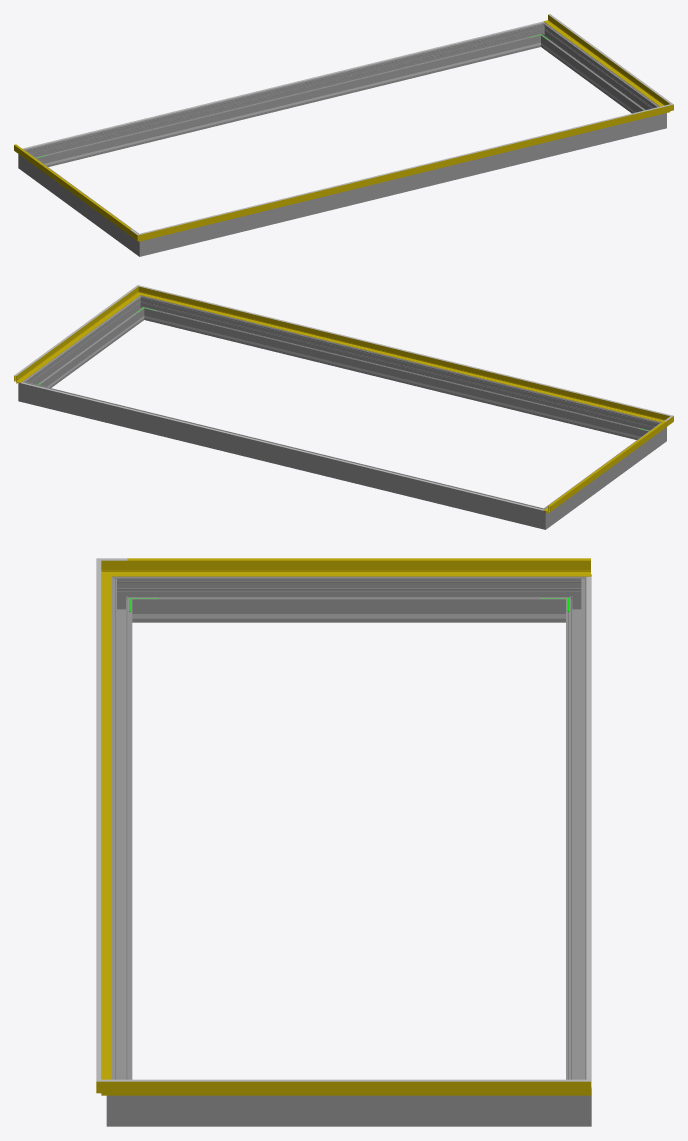
3 views of the same model, one above another, from view 1: azimuth 30°, elevation 25°; view 2: azimuth 150°, elevation 25°; view 3: azimuth 270°, elevation 25° (orthographic). The views are drawn at different scales.
Parts seen in each view (by area): view 1: 3DGeom-277, 3DGeom-299, 3DGeom-56, 3DGeom-298, 3DGeom-269, 3DGeom-245, 3DGeom-58, 3DGeom-221, 3DGeom-66, 3DGeom-50; view 2: 3DGeom-299, 3DGeom-277, 3DGeom-56, 3DGeom-298, 3DGeom-269, 3DGeom-240, 3DGeom-58, 3DGeom-221, 3DGeom-66, 3DGeom-50, 3DGeom-279; view 3: 3DGeom-269, 3DGeom-298, 3DGeom-299, 3DGeom-277, 3DGeom-50, 3DGeom-58, 3DGeom-56, 3DGeom-221, 3DGeom-66, 3DGeom-233, 3DGeom-64, 3DGeom-71 (+4 smaller).
Boxes of the visible parts, <box> form: 3DGeom-277: <box>33,25,538,166</box>; 3DGeom-299: <box>153,116,653,253</box>; 3DGeom-56: <box>149,108,660,238</box>; 3DGeom-298: <box>542,27,656,113</box>; 3DGeom-269: <box>26,154,135,250</box>; 3DGeom-245: <box>49,46,527,164</box>; 3DGeom-58: <box>544,14,663,105</box>; 3DGeom-221: <box>22,21,544,149</box>; 3DGeom-66: <box>150,107,659,231</box>; 3DGeom-50: <box>14,145,129,235</box>; 3DGeom-299: <box>146,298,652,439</box>; 3DGeom-277: <box>31,384,534,526</box>; 3DGeom-56: <box>147,289,659,420</box>; 3DGeom-298: <box>28,300,142,387</box>; 3DGeom-269: <box>549,427,659,523</box>; 3DGeom-240: <box>157,319,636,437</box>; 3DGeom-58: <box>14,291,136,383</box>; 3DGeom-221: <box>21,382,543,510</box>; 3DGeom-66: <box>150,288,659,413</box>; 3DGeom-50: <box>544,422,666,513</box>; 3DGeom-279: <box>532,505,553,529</box>; 3DGeom-269: <box>137,576,560,622</box>; 3DGeom-298: <box>137,1095,560,1126</box>; 3DGeom-299: <box>111,587,132,1079</box>; 3DGeom-277: <box>566,587,586,1079</box>; 3DGeom-50: <box>127,560,590,576</box>; 3DGeom-58: <box>127,1081,590,1095</box>; 3DGeom-56: <box>101,581,111,1079</box>; 3DGeom-221: <box>586,576,591,1087</box>; 3DGeom-66: <box>96,571,101,1068</box>; 3DGeom-233: <box>162,614,535,618</box>; 3DGeom-64: <box>127,1079,590,1081</box>; 3DGeom-71: <box>127,558,590,560</box>.
Bounding box in the file's own units: 6.1 × 0.2669 × 2.44.
